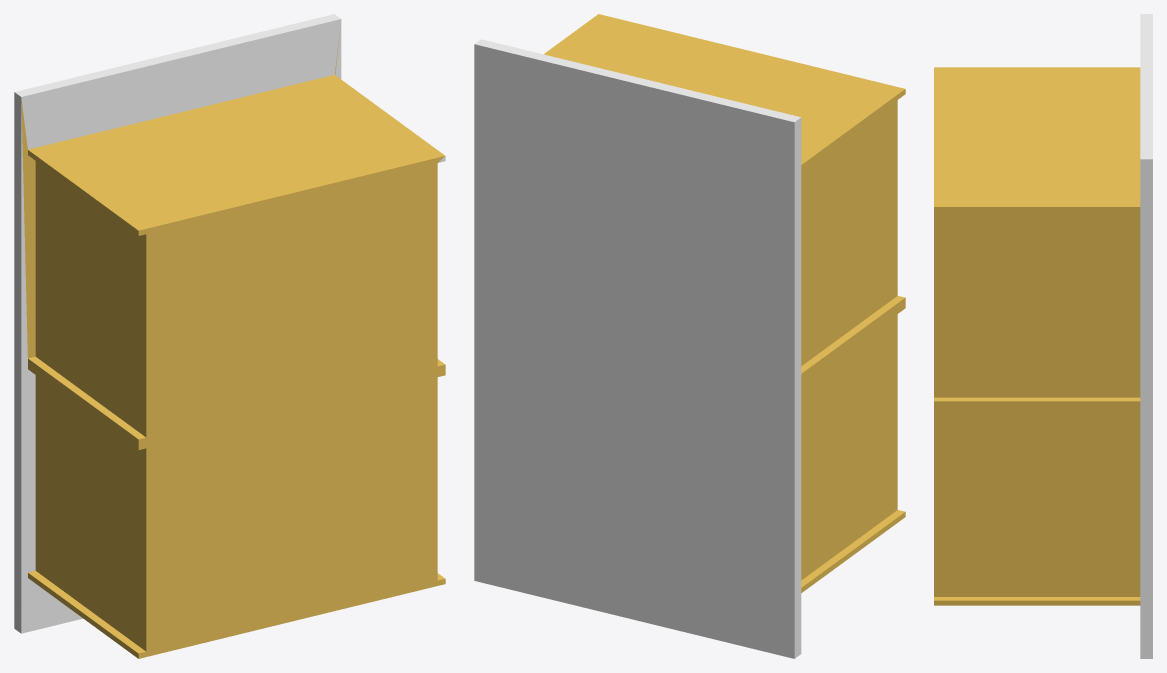
File: Table.dae
3 views of the same model, side by side, from view 1: azimuth 30°, elevation 25°; view 2: azimuth 150°, elevation 25°; view 3: azimuth 270°, elevation 25° (orthographic). The views are drawn at different scales.
Visible parts, largest first — view 1: node0; view 2: node0; view 3: node0.
Part boxes in pixels (x1,y1,x2,y2): node0: (14, 14, 445, 658); node0: (474, 14, 905, 658); node0: (934, 14, 1152, 658).
Size of the model in its own units: 1.25 by 0.792 by 2.
